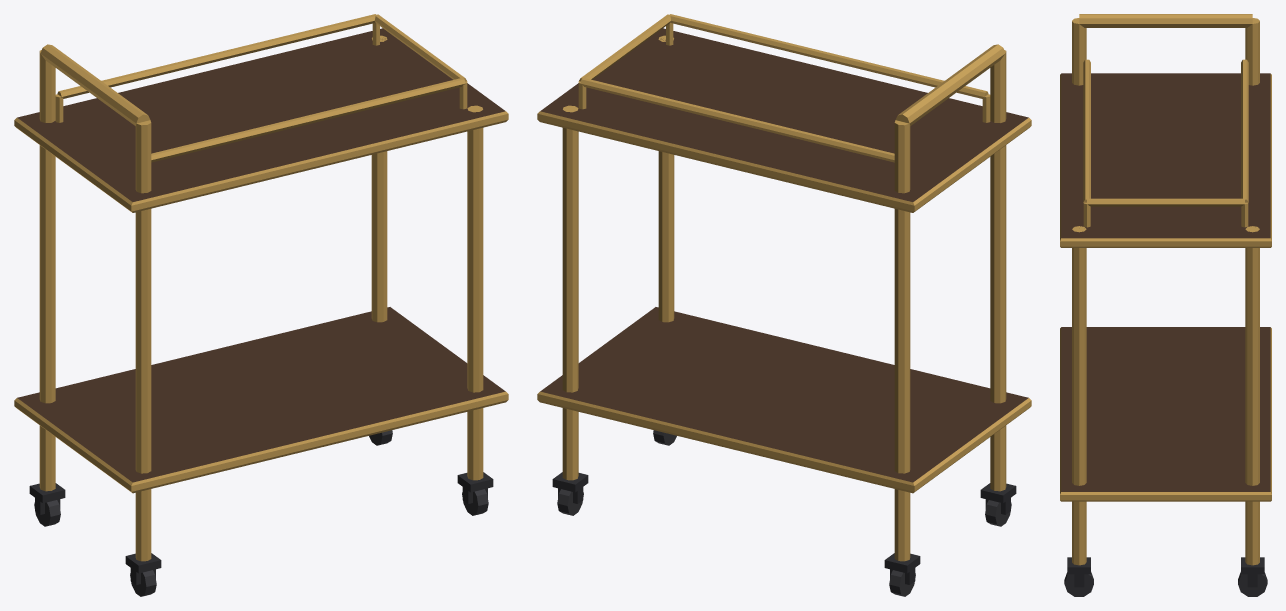
The model's file is FN_Cart_Bar.obj.
The picture shows the model from 3 angles, left to right: view 1: azimuth 30°, elevation 25°; view 2: azimuth 150°, elevation 25°; view 3: azimuth 270°, elevation 25°; orthographic projection. The views are drawn at different scales.
Visible parts, largest first — view 1: FN_Cart_Bar; view 2: FN_Cart_Bar; view 3: FN_Cart_Bar.
Part boxes in pixels (x1,y1,x2,y2): FN_Cart_Bar: (14, 14, 508, 596); FN_Cart_Bar: (537, 14, 1031, 596); FN_Cart_Bar: (1060, 14, 1271, 596).
Size of the model in its own units: 0.8 by 0.9715 by 0.43.
1 material, 1 textured.
